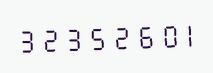five: (83, 20, 104, 53)
one: (171, 17, 192, 49)
six: (127, 19, 148, 51)
three: (17, 23, 38, 55), (61, 21, 82, 53)
two: (39, 22, 60, 54), (105, 20, 126, 52)
zero: (149, 18, 170, 50)
